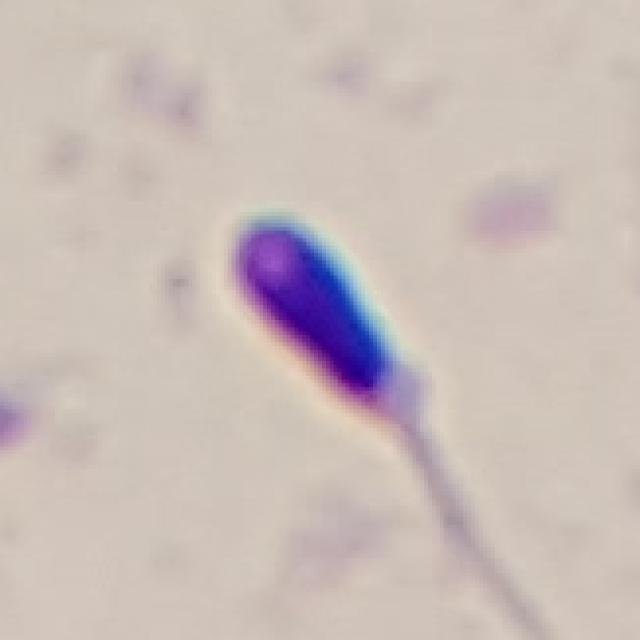abnormal sperm: (215, 209, 469, 536)
